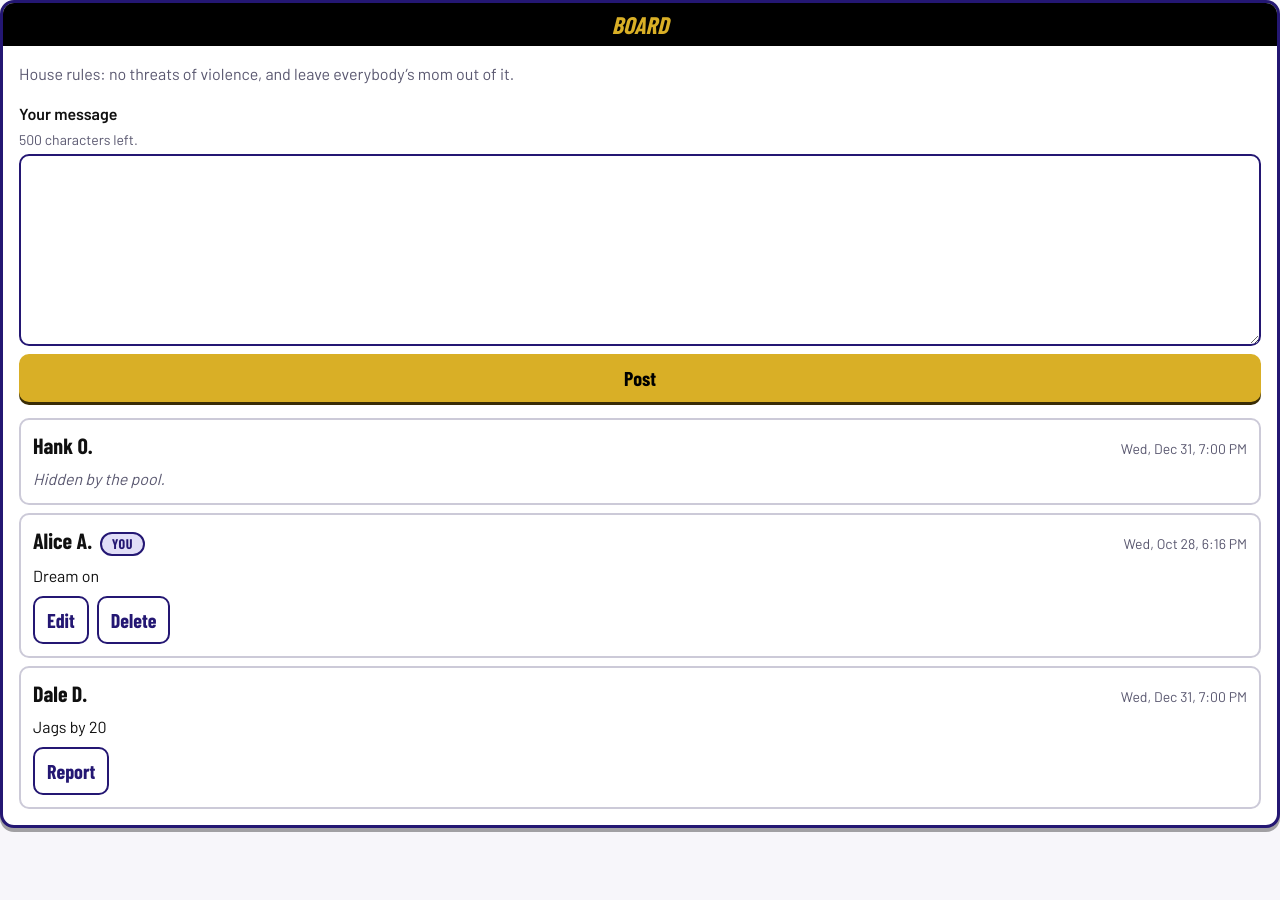
Test: asks for a moment between posts instead of sending one the rules would refuse (D-109)
The image size is (1280, 900).
Type "And another thing" into the text box labelled "Your message" at x=640, y=250, box 19,154 -> 1261,346
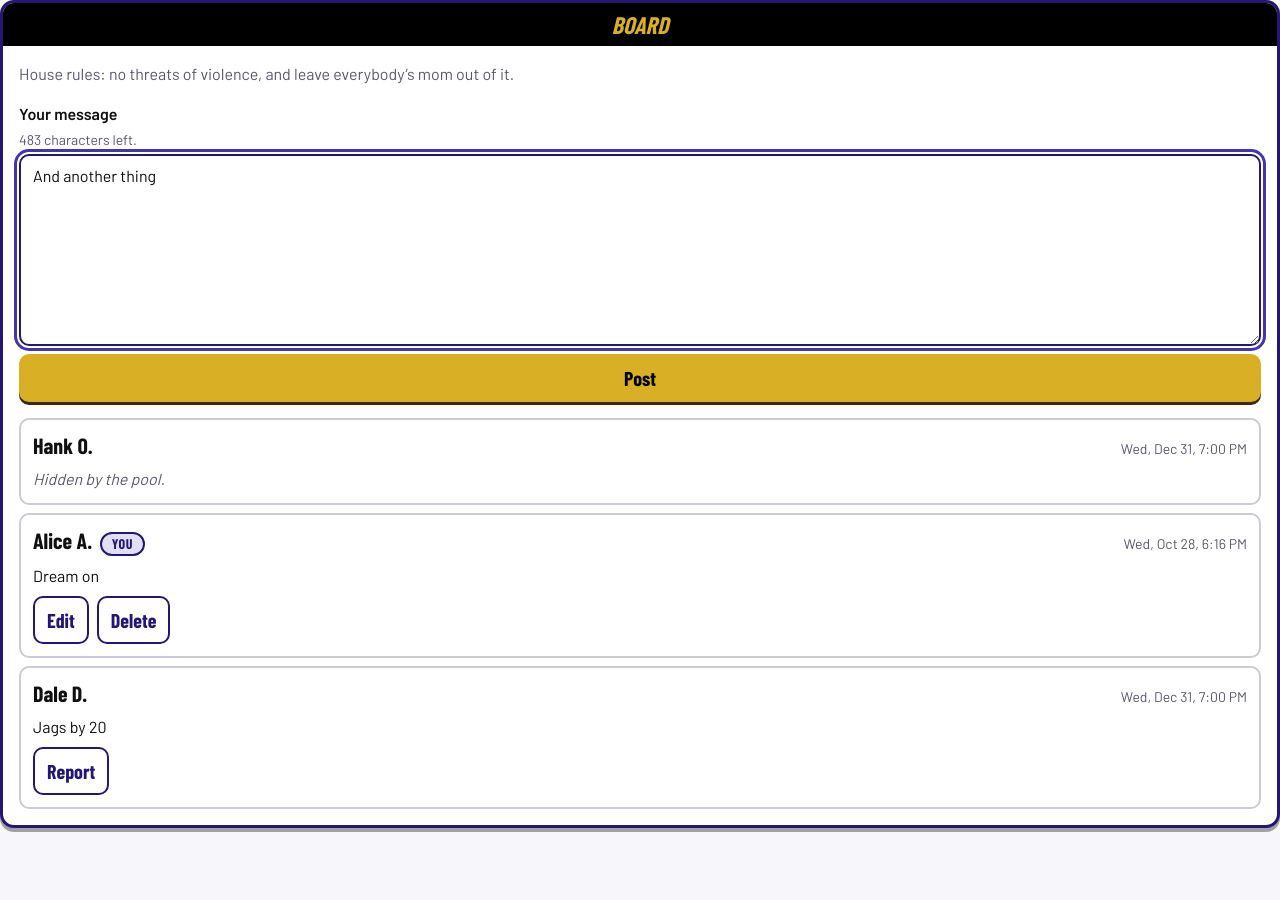
Click the button "Post" at x=640, y=378, box 19,354 -> 1261,402
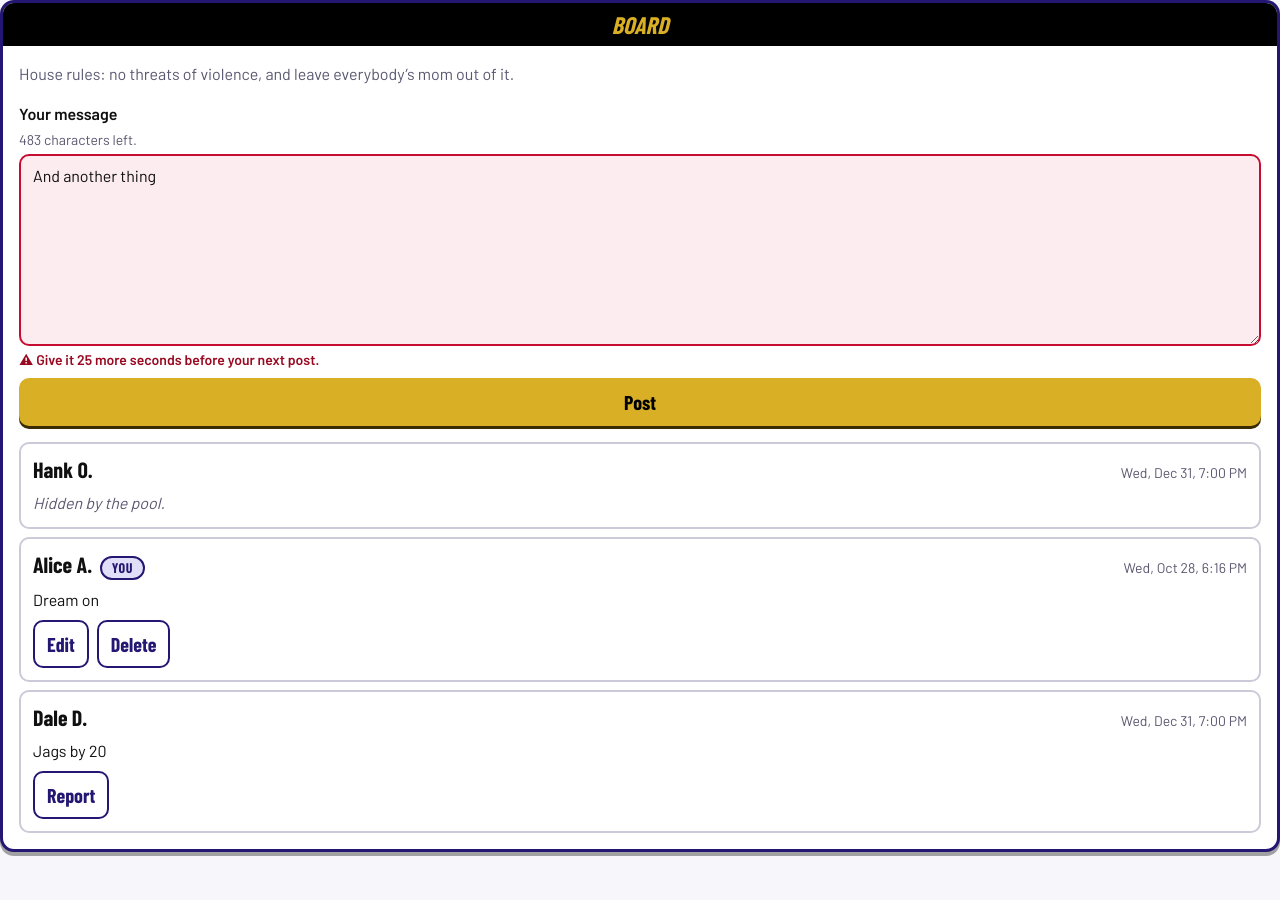
Expected: the text "⚠ Give it 25 more seconds before your next post." is shown, 19,351 -> 319,368
